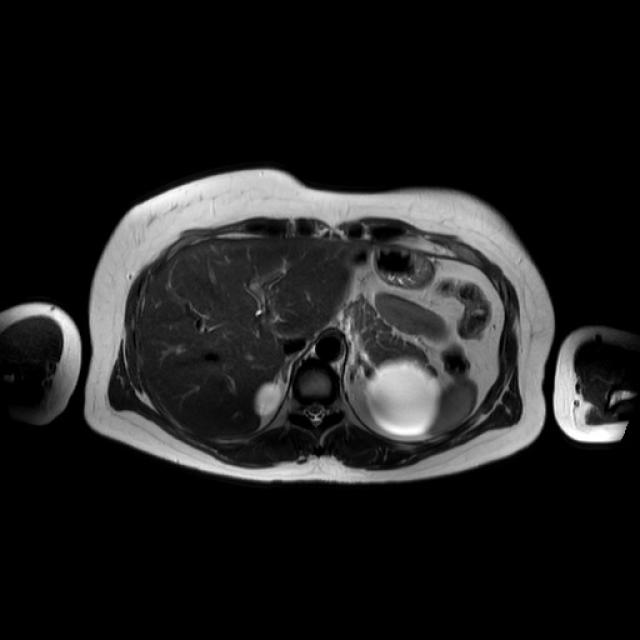sag: (258, 382, 282, 412)
sol: (370, 360, 442, 438)
